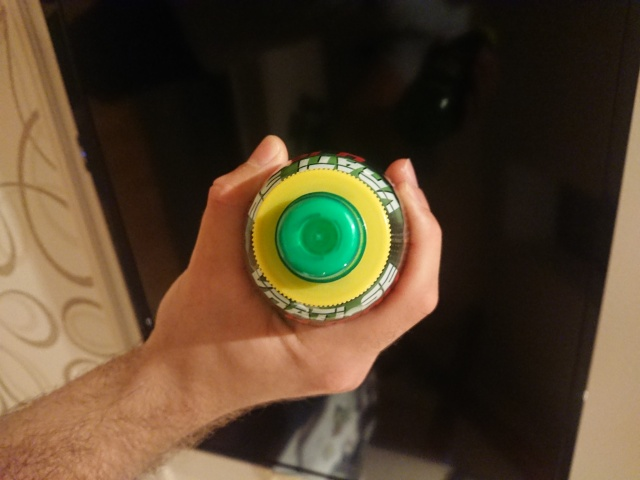Vindi Iso Sport Lemon-Grapefruit 500mL: (238, 145, 415, 331)
